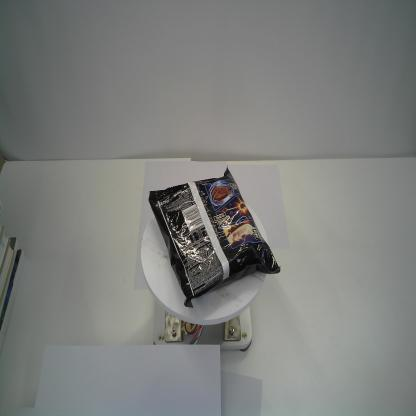Instant Noodles: (146, 162, 282, 310)
